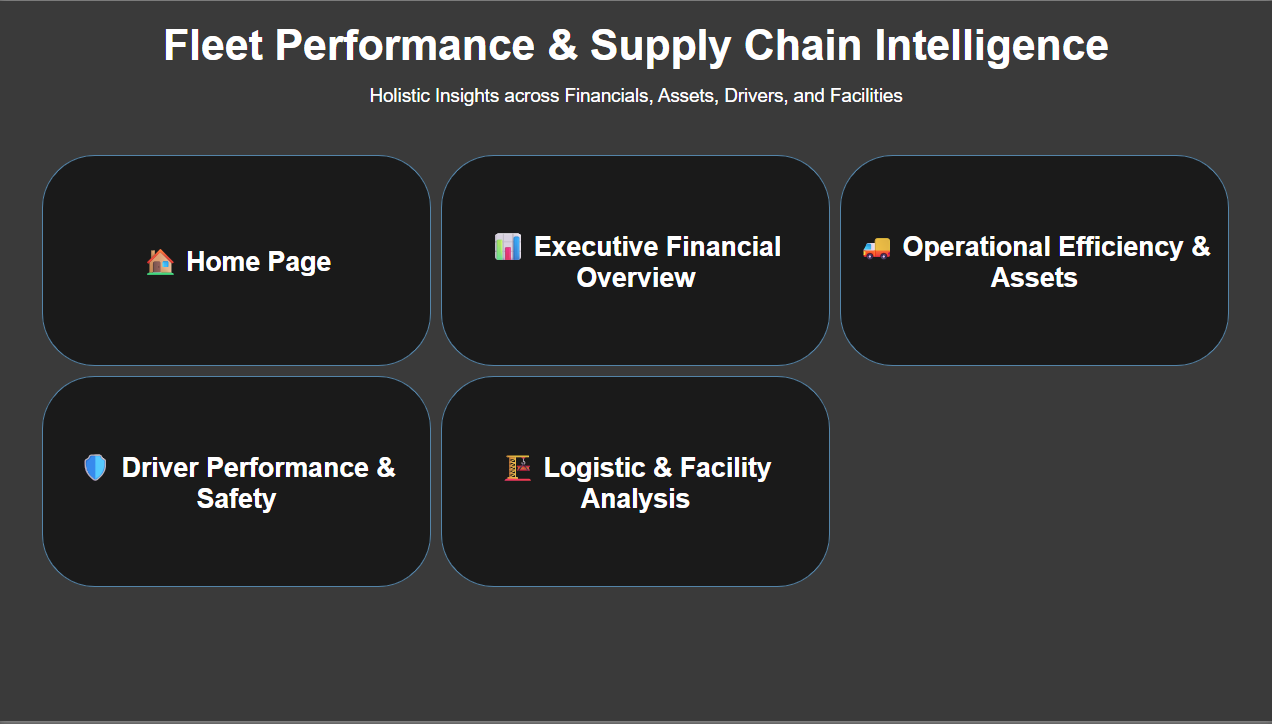

The page's visual inventory and layout, read from the dashboard file:
{"tool":"powerbi","page":{"name":"🏠 Home Page","canvas":[1280,720],"ordinal":0},"visuals":[{"type":"shape","box":[0,0,1280.2,720],"z":0},{"type":"pageNavigator","box":[100,143.6,1080,432.7],"z":1000},{"type":"textbox","box":[0,0,1280,131.3],"z":2000}]}

Visuals, with their boxes in screenshot pixels (x1, y1, x2, y2), scaled from the page's 1280x720 canvas onto the 1272x724 screenshot:
shape: crop(0, 0, 1271, 723)
pageNavigator: crop(99, 144, 1173, 580)
textbox: crop(0, 0, 1271, 132)
